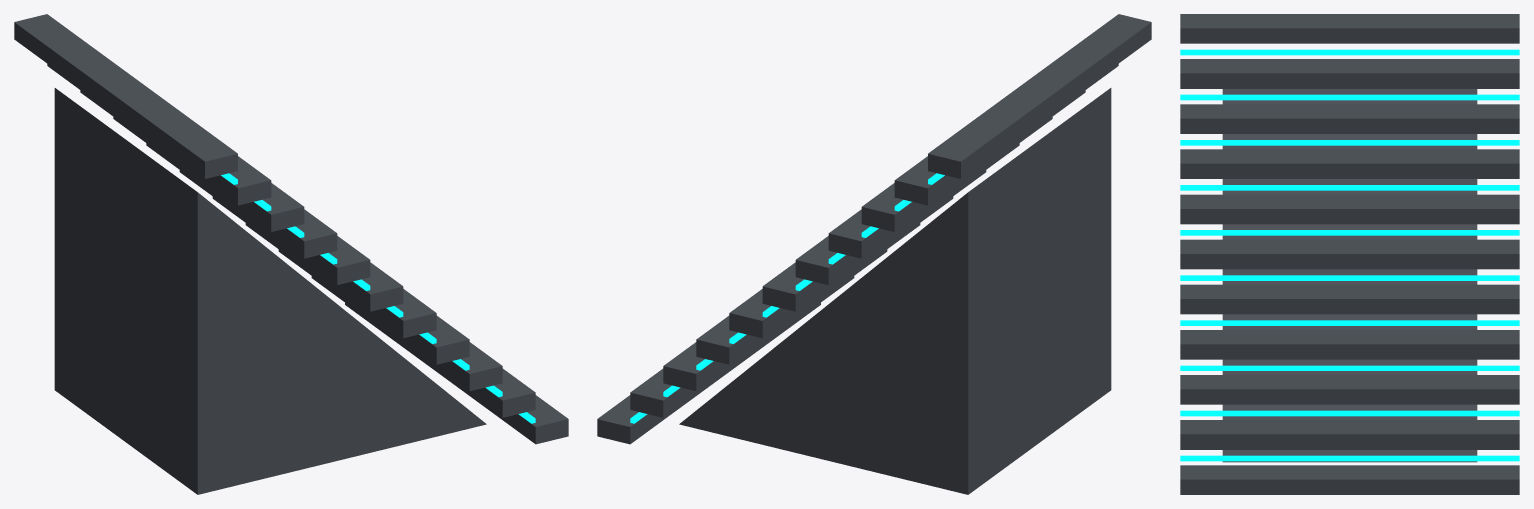
The model's file is stairs_blend.glb.
The picture shows the model from 3 angles, left to right: view 1: azimuth 30°, elevation 25°; view 2: azimuth 150°, elevation 25°; view 3: azimuth 270°, elevation 25°; orthographic projection. The views are drawn at different scales.
Parts seen in each view (by area): view 1: Cube; view 2: Cube; view 3: Cube.
Part boxes in pixels (box(x1,y1,x2,y2)): Cube: box(14, 14, 568, 494); Cube: box(597, 14, 1151, 494); Cube: box(1180, 14, 1519, 494).
Size of what is drawn, in the model's own units: 2.2 by 2.1 by 2.
